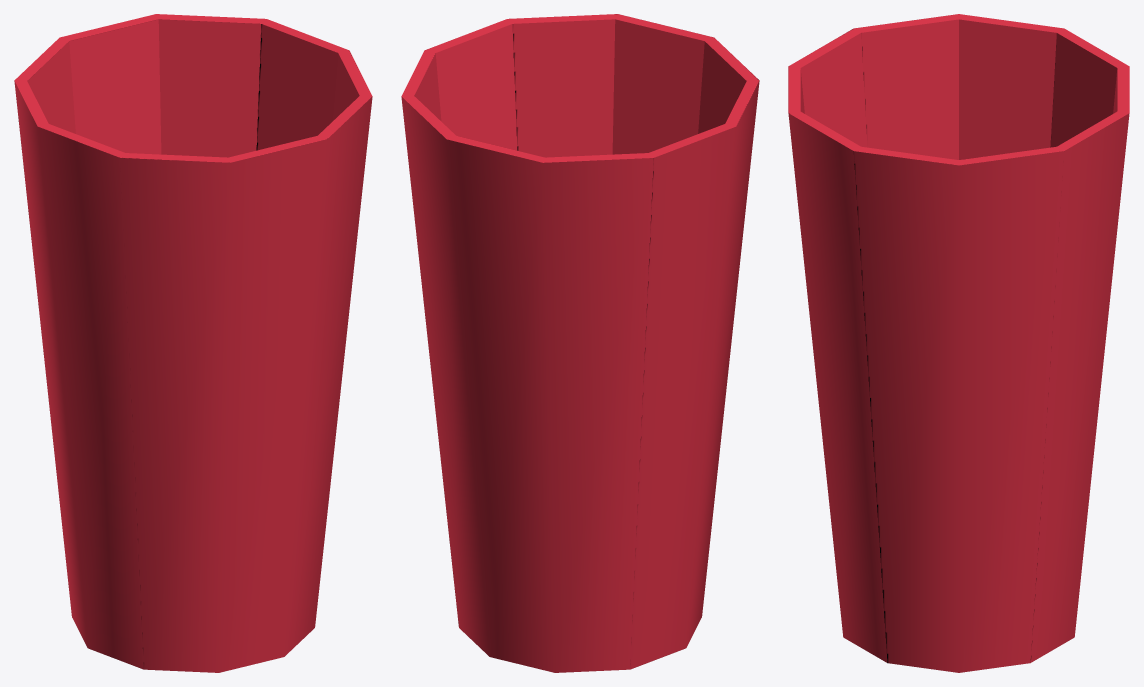
File: glass.FBX
3 views of the same model, side by side, from view 1: azimuth 30°, elevation 25°; view 2: azimuth 150°, elevation 25°; view 3: azimuth 270°, elevation 25° (orthographic).
Visible parts, largest first — view 1: glass; view 2: glass; view 3: glass.
Part boxes in pixels (x1,y1,x2,y2): glass: (14, 14, 372, 672); glass: (401, 14, 759, 672); glass: (788, 14, 1129, 672).
Bounding box in the file's own units: 5.91 × 9.66 × 5.62.
Materials: 1 (1 with a texture image).
